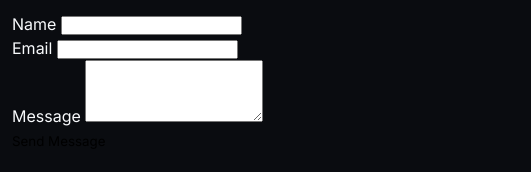
Test: ContactForm › Validation - Name › fails for single character name
Step 1. Type "A" into the field with id "contact-name" → (151, 26), box [61,16,242,35]
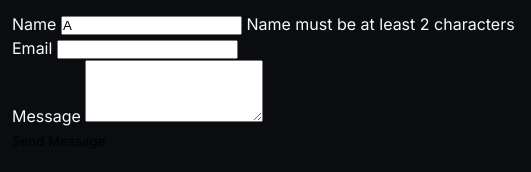
Now the message with id "name-error" shows "at least 2", box [246,14,515,34]
